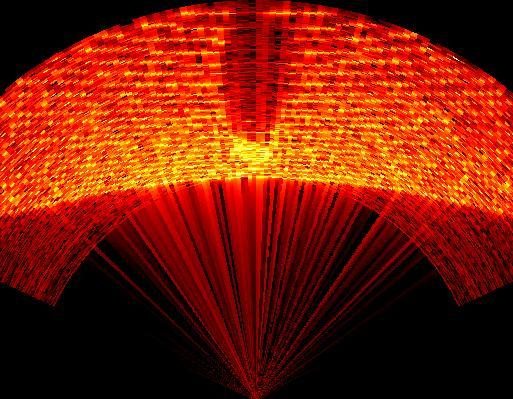box_crate: (223, 12, 290, 164)
